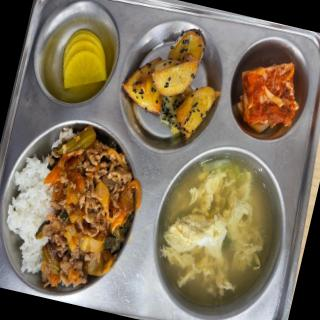Nasi: (1, 160, 60, 282)
